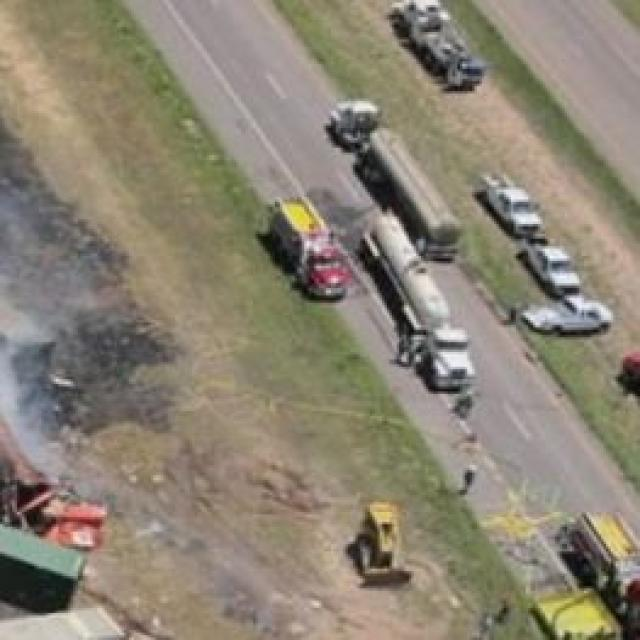traffic_incident: (0, 384, 105, 546)
